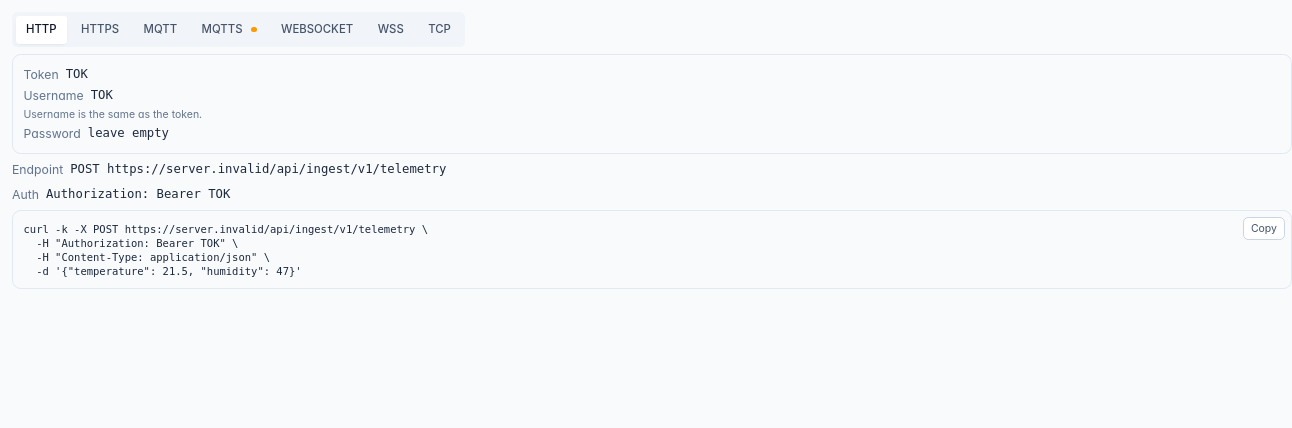
Scenario: ConnectionInstructions — protocol switcher › switching away from a not-live transport removes the warning
Click the tab "MQTTS": {"x": 229, "y": 30} [191, 16, 267, 44]
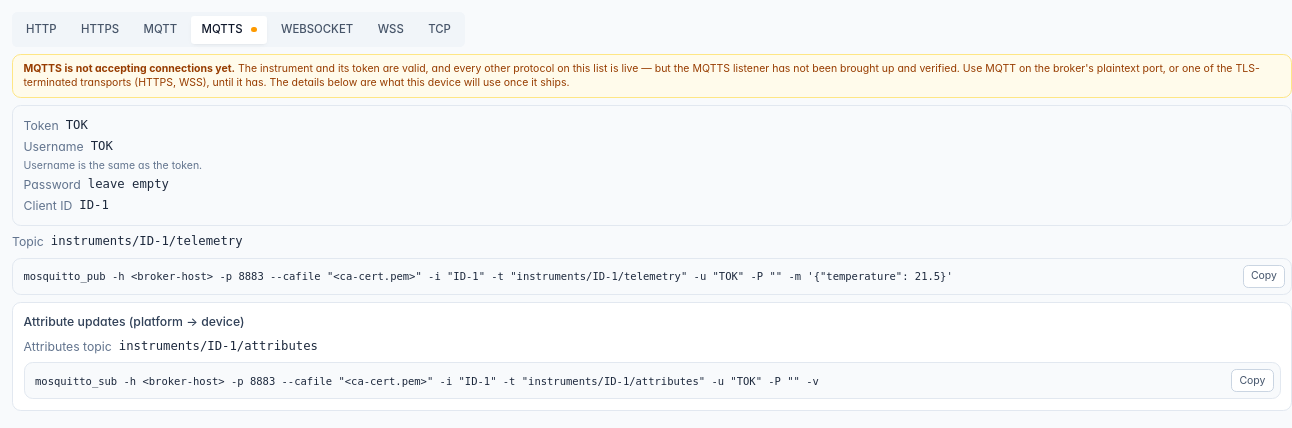
Expected: the text "MQTTS is not accepting connections yet." is shown, [24, 62, 235, 75]
Click the tab "HTTP": {"x": 41, "y": 30} [16, 16, 67, 44]
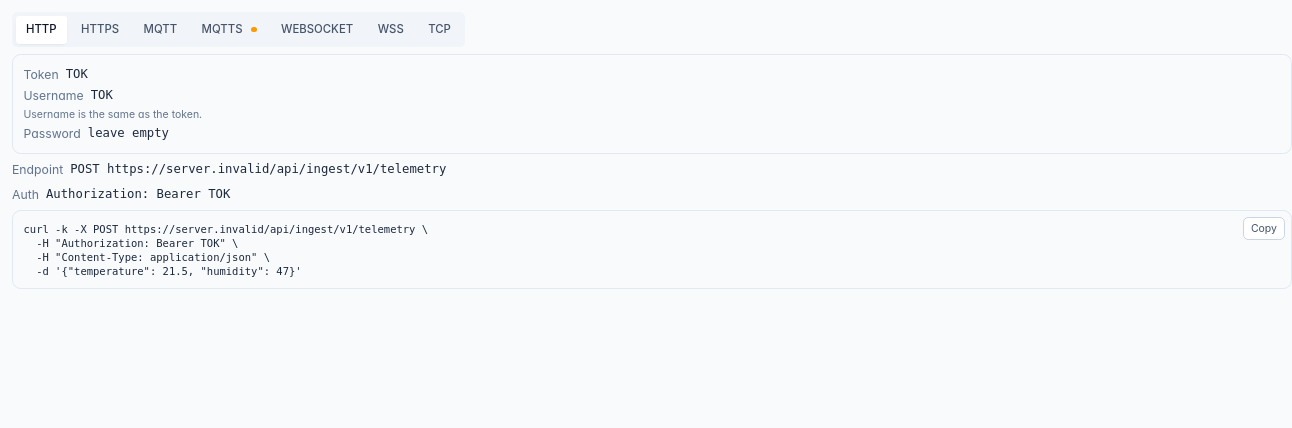
Expected: the text "not accepting connections yet" is gone
Expected: the text "curl" is shown, [24, 222, 428, 276]
